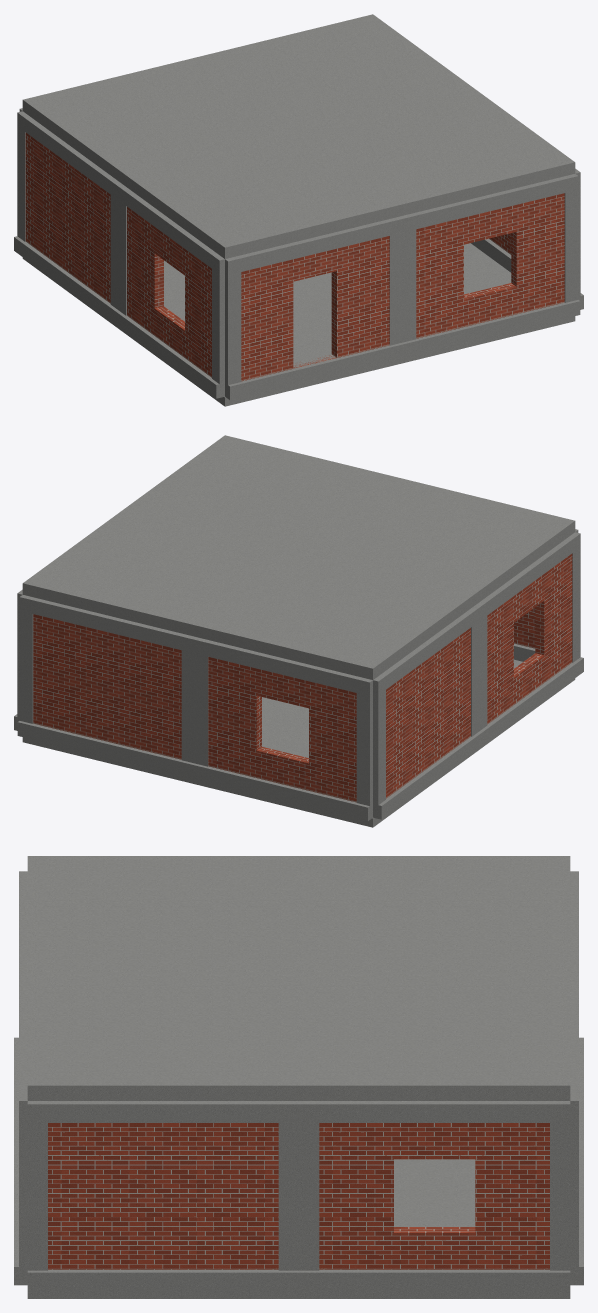
Rendered from house_3.glb.
3 views of the same model, one above another, from view 1: azimuth 30°, elevation 25°; view 2: azimuth 150°, elevation 25°; view 3: azimuth 270°, elevation 25° (orthographic). The views are drawn at different scales.
Parts seen in each view (by area): view 1: Cube.044, Cube.046, Cube.045, Cube.047, Cube.013, Cube.008, Cube.033, Cube.028, Cube, Cube.004, Cube.002, Cube.007 (+16 smaller); view 2: Cube.045, Cube.047, Cube.044, Cube.046, Cube.023, Cube.018, Cube.033, Cube.028, Cube.001, Cube.017, Cube.022, Cube.014 (+15 smaller); view 3: Cube.046, Cube.047, Cube.038, Cube.044, Cube.045, Cube.043, Cube.003, Cube.037, Cube.042, Cube.034, Cube.039, Cube.035 (+15 smaller).
Part boxes in pixels (bbox=[...]): Cube.044: bbox=[124, 131, 399, 258]; Cube.046: bbox=[299, 88, 575, 216]; Cube.045: bbox=[22, 57, 298, 184]; Cube.047: bbox=[198, 14, 473, 130]; Cube.013: bbox=[416, 193, 564, 338]; Cube.008: bbox=[241, 236, 389, 381]; Cube.033: bbox=[25, 133, 110, 303]; Cube.028: bbox=[127, 207, 211, 377]; Cube: bbox=[124, 281, 399, 406]; Cube.004: bbox=[225, 342, 405, 400]; Cube.002: bbox=[299, 243, 575, 363]; Cube.007: bbox=[225, 216, 403, 275]; Cube.045: bbox=[198, 552, 473, 679]; Cube.047: bbox=[22, 509, 298, 637]; Cube.044: bbox=[299, 478, 575, 605]; Cube.046: bbox=[124, 435, 399, 551]; Cube.023: bbox=[33, 614, 181, 759]; Cube.018: bbox=[208, 657, 356, 802]; Cube.033: bbox=[386, 628, 470, 798]; Cube.028: bbox=[487, 554, 572, 724]; Cube.001: bbox=[198, 705, 473, 827]; Cube.017: bbox=[194, 637, 372, 696]; Cube.022: bbox=[19, 595, 197, 653]; Cube.014: bbox=[192, 763, 372, 821]; Cube.046: bbox=[27, 970, 298, 1100]; Cube.047: bbox=[299, 970, 570, 1100]; Cube.038: bbox=[48, 1123, 278, 1269]; Cube.044: bbox=[27, 856, 298, 970]; Cube.045: bbox=[299, 856, 570, 970]; Cube.043: bbox=[319, 1123, 549, 1269]; Cube.003: bbox=[299, 1172, 570, 1298]; Cube.037: bbox=[27, 1101, 298, 1122]; Cube.042: bbox=[299, 1101, 570, 1122]; Cube.034: bbox=[27, 1270, 298, 1290]; Cube.039: bbox=[299, 1270, 570, 1290]; Cube.035: bbox=[278, 1123, 298, 1270].
Bounding box in the file's own units: 8.4 × 3.47 × 8.4.
Materials: 24 (24 with a texture image).
